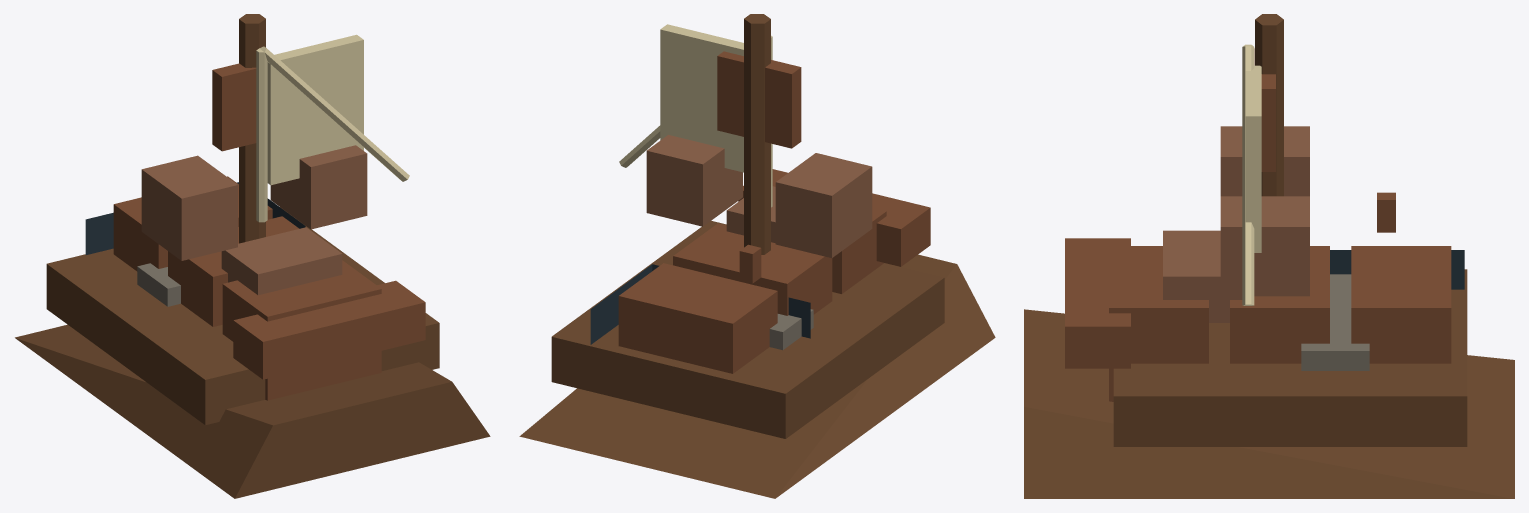
File: trade-ship.obj
3 views of the same model, side by side, from view 1: azimuth 30°, elevation 25°; view 2: azimuth 150°, elevation 25°; view 3: azimuth 270°, elevation 25° (orthographic). The views are drawn at different scales.
Parts seen in each view (by area): view 1: ship; view 2: ship; view 3: ship.
Boxes of the visible parts, x1,y1,x2,y2 form: ship: (15,14,490,498); ship: (519,14,995,498); ship: (1024,14,1514,498).
Size of the model in its own units: 1.66 by 2.13 by 2.31.
